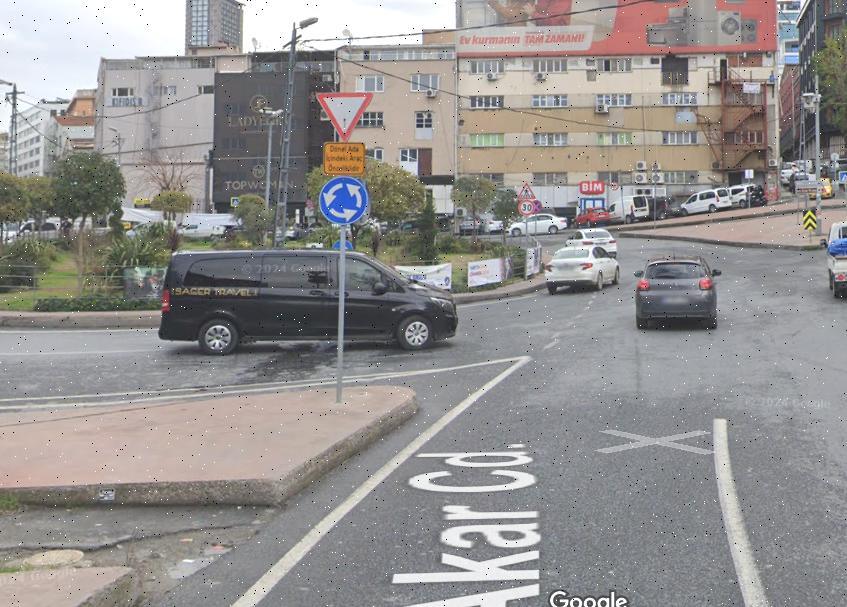crossroads: (322, 176, 365, 220)
